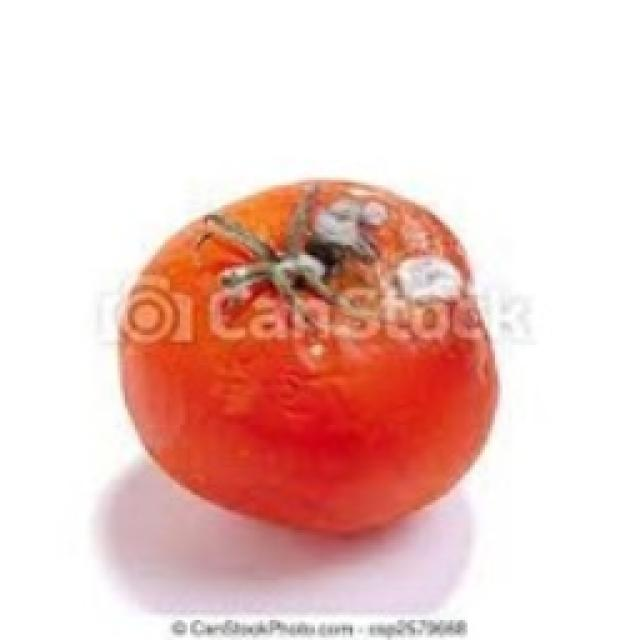overripe tomato: (106, 166, 514, 547)
